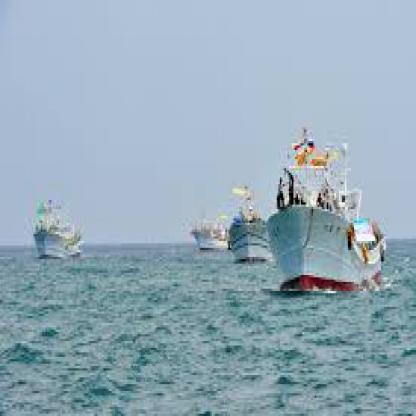fish-b: (266, 127, 398, 307), (221, 173, 278, 268), (20, 186, 84, 266)
